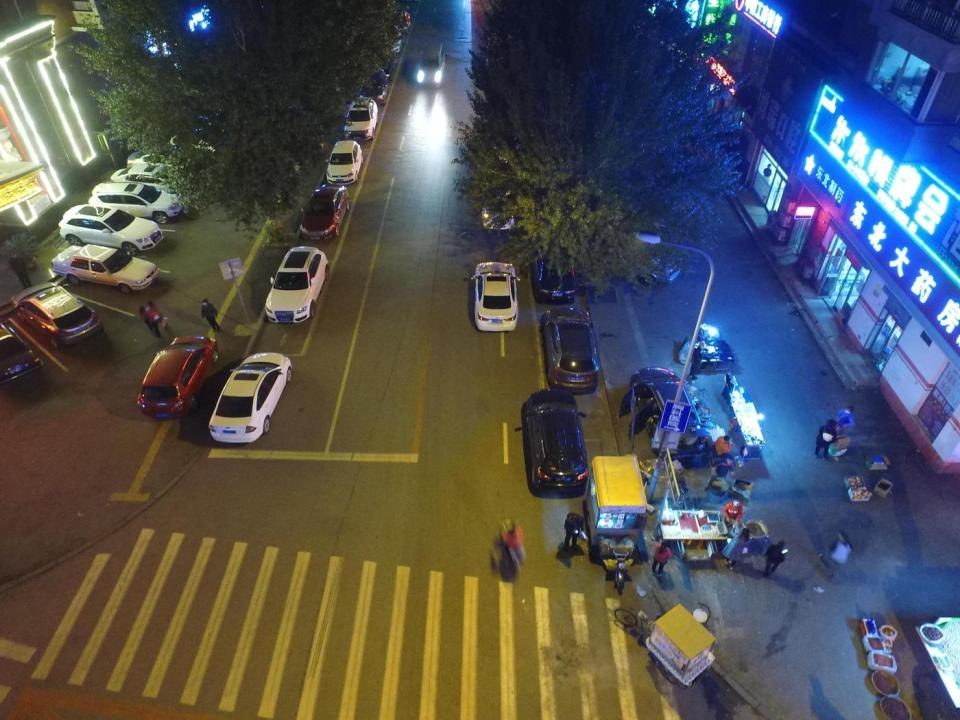car: (208, 351, 293, 444), (628, 366, 706, 458), (136, 334, 219, 420), (525, 387, 589, 493), (10, 280, 103, 351), (57, 203, 165, 257), (51, 243, 161, 296), (265, 244, 330, 323), (542, 306, 600, 393), (87, 180, 184, 225), (110, 162, 206, 203), (126, 146, 217, 187), (599, 245, 682, 285), (475, 260, 519, 332), (298, 182, 350, 242), (0, 320, 44, 386), (481, 182, 514, 232), (354, 68, 391, 105), (372, 24, 403, 56), (378, 12, 411, 36)
van: (532, 236, 577, 304), (326, 139, 363, 185), (343, 97, 379, 142), (415, 40, 446, 86)
